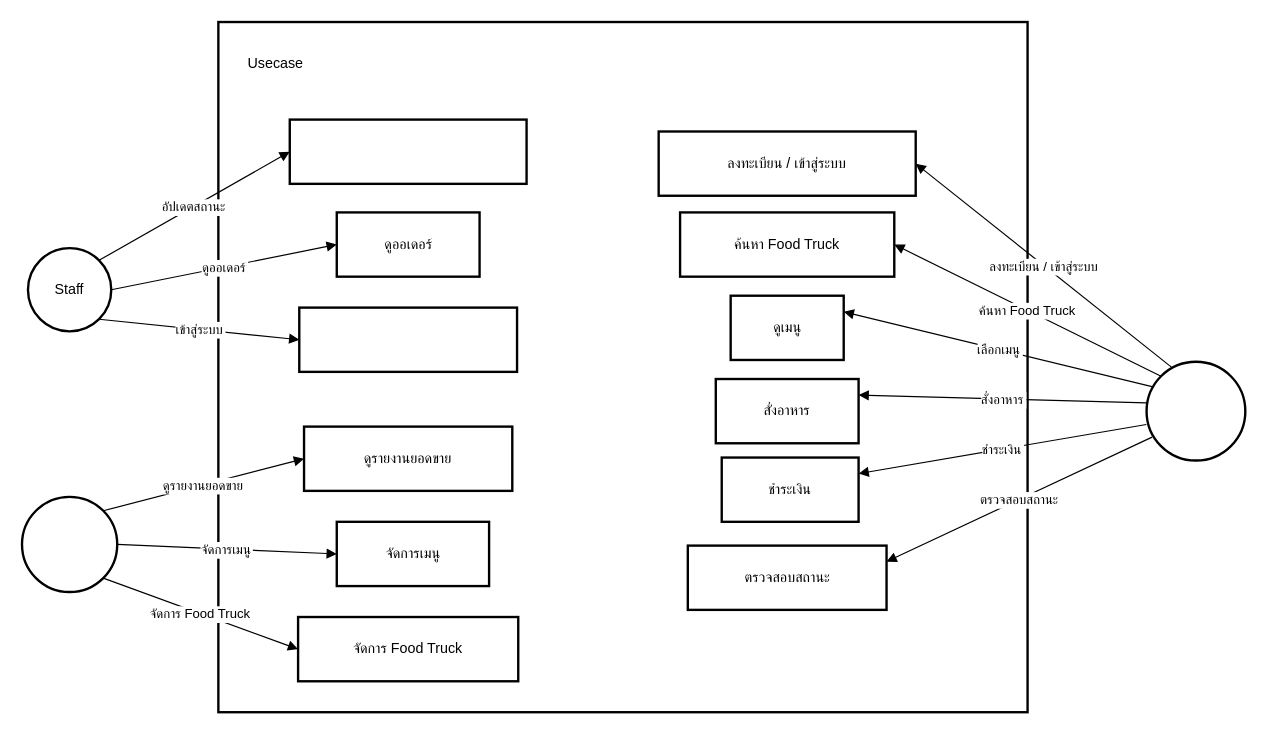
The diagram is 1266 pixels wide and 733 high, and some of its shapes have lost their labels. The centre of each missing label's shape, as x and y in pixels:
"Admin" goes at (69,544).
"Customer" goes at (1195,410).
"อัปเดตสถานะออเดอร์" goes at (407,151).
"เข้าสู่ระบบพนักงาน" goes at (408,339).
